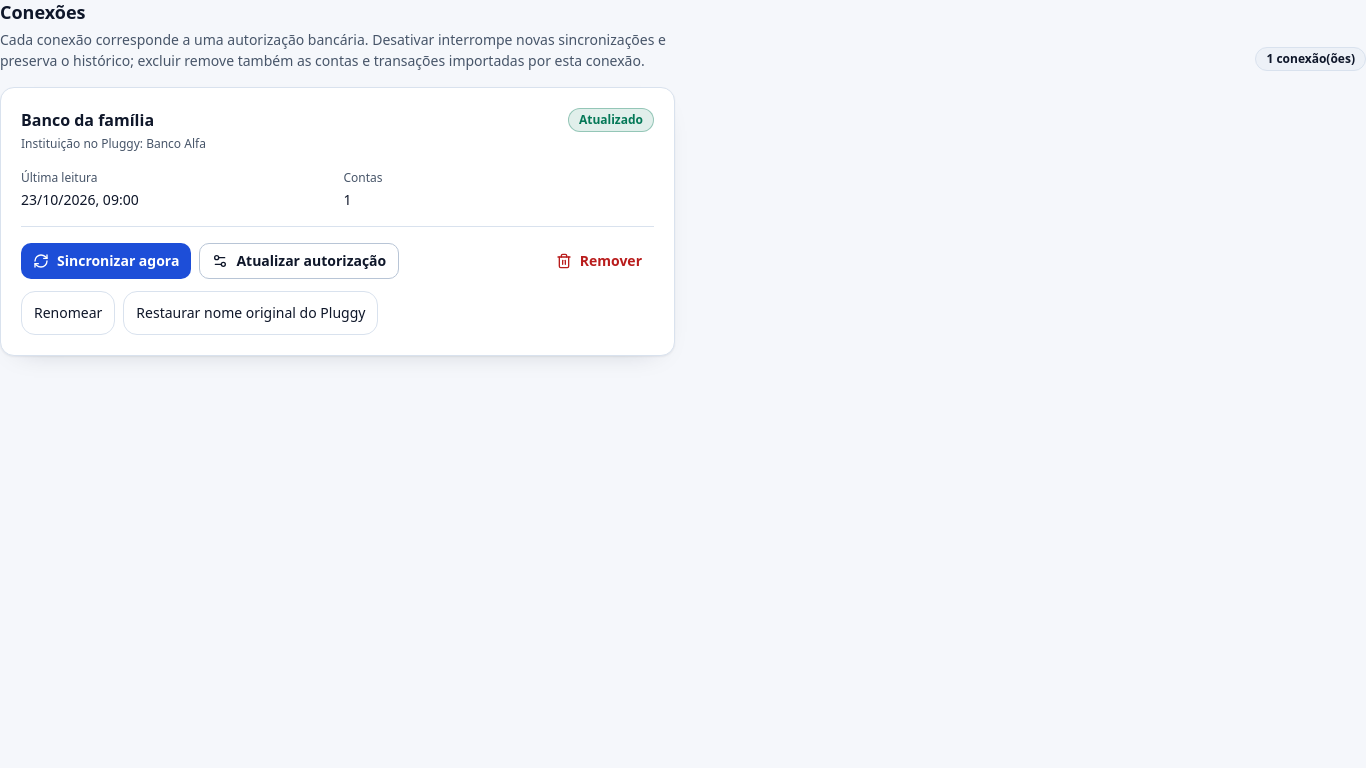
remoção de conexão › desativa a conexão preservando histórico e dados
The width and height of the screenshot is (1366, 768).
Click the button "Remover" at coordinates (599, 261), box [544,243,654,279]
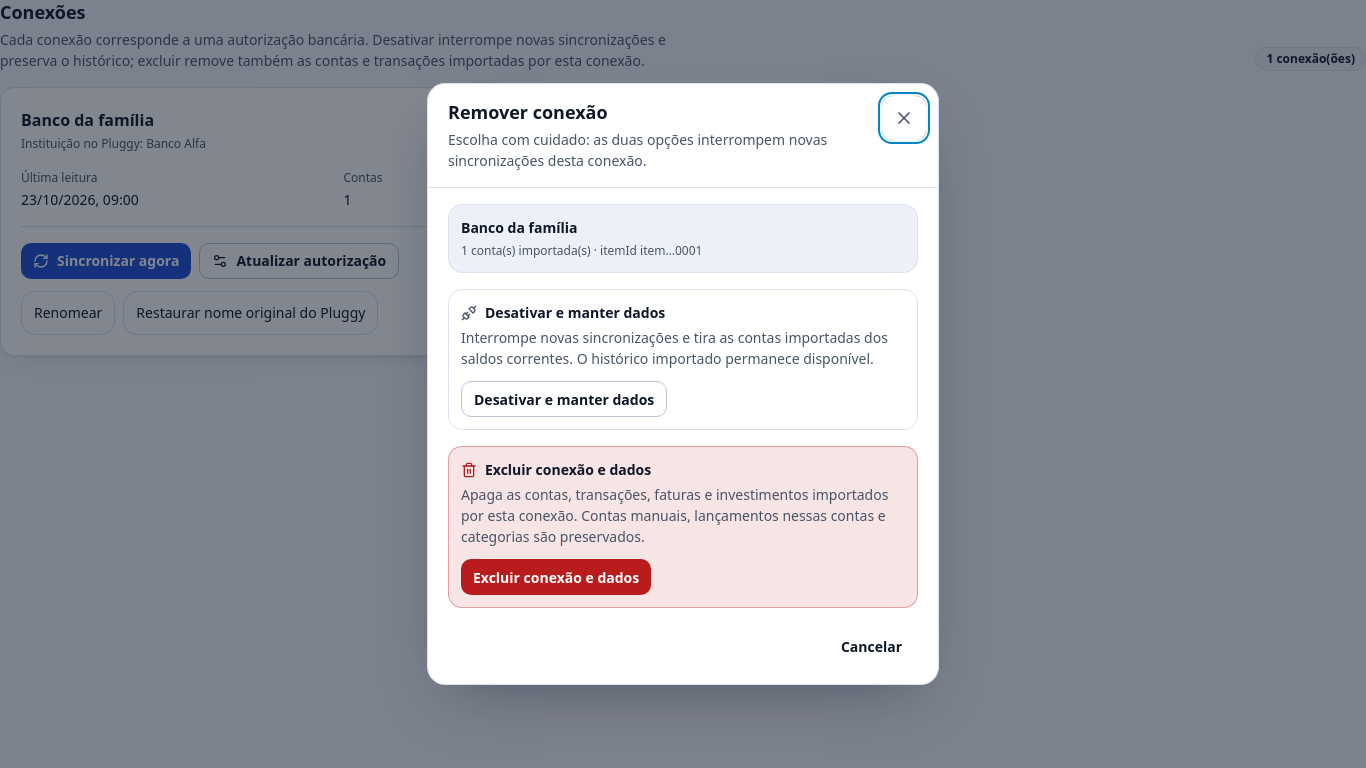
Click the button "Desativar e manter dados" at coordinates (564, 399), box [461,381,667,417]
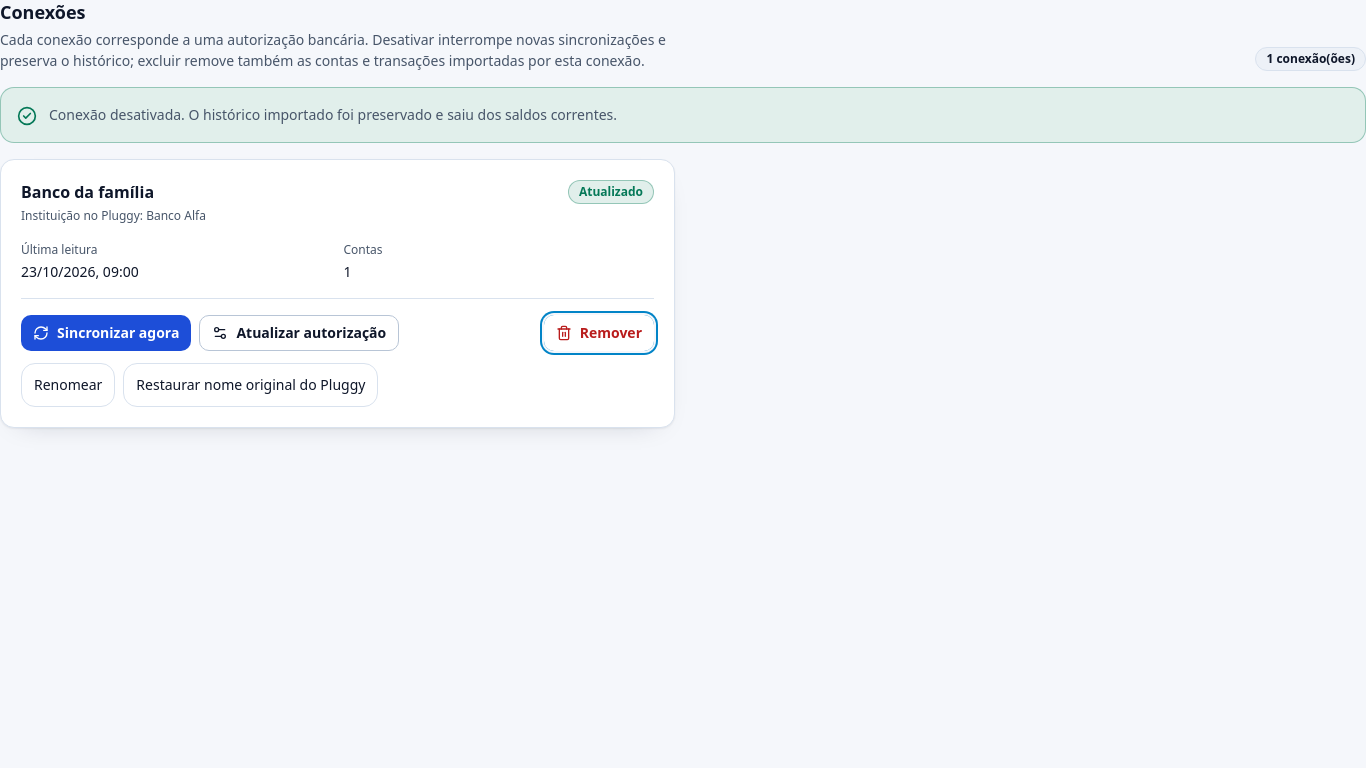
Now the text "Conexão desativada" is shown, box [49,105,617,124]
